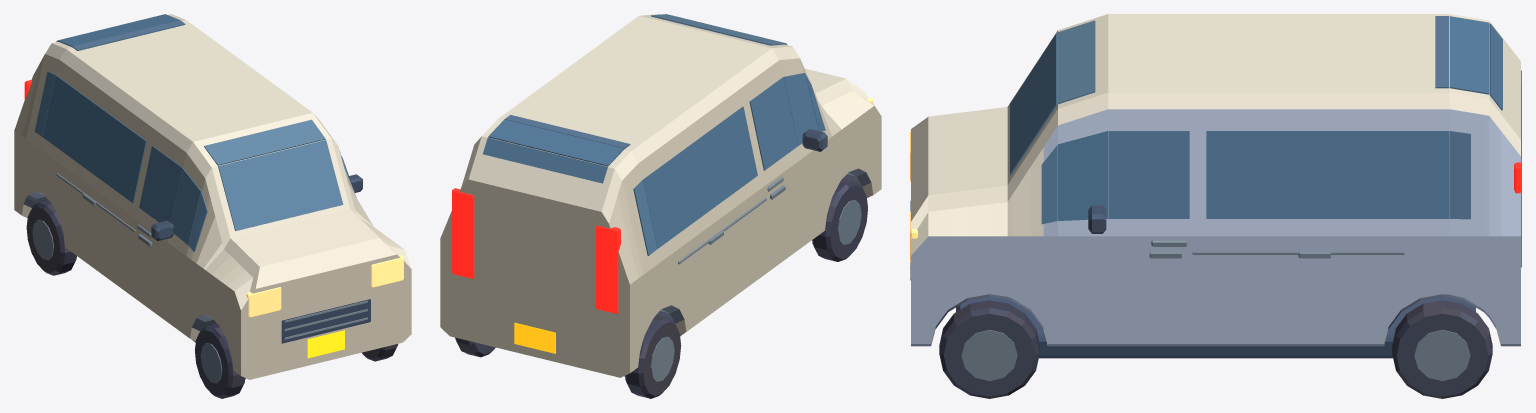
Rendered from ART_KeiBox.glb.
The picture shows the model from 3 angles, left to right: view 1: azimuth 30°, elevation 25°; view 2: azimuth 150°, elevation 25°; view 3: azimuth 270°, elevation 25°; orthographic projection. The views are drawn at different scales.
Parts seen in each view (by area): view 1: ART_KeiBox; view 2: ART_KeiBox; view 3: ART_KeiBox.
Part boxes in pixels (left/top/right/bottom): ART_KeiBox: left=14, top=14, right=411, bottom=398; ART_KeiBox: left=440, top=14, right=881, bottom=398; ART_KeiBox: left=910, top=14, right=1521, bottom=398.
Bounding box in the file's own units: 1.79 × 1.8 × 3.4.
